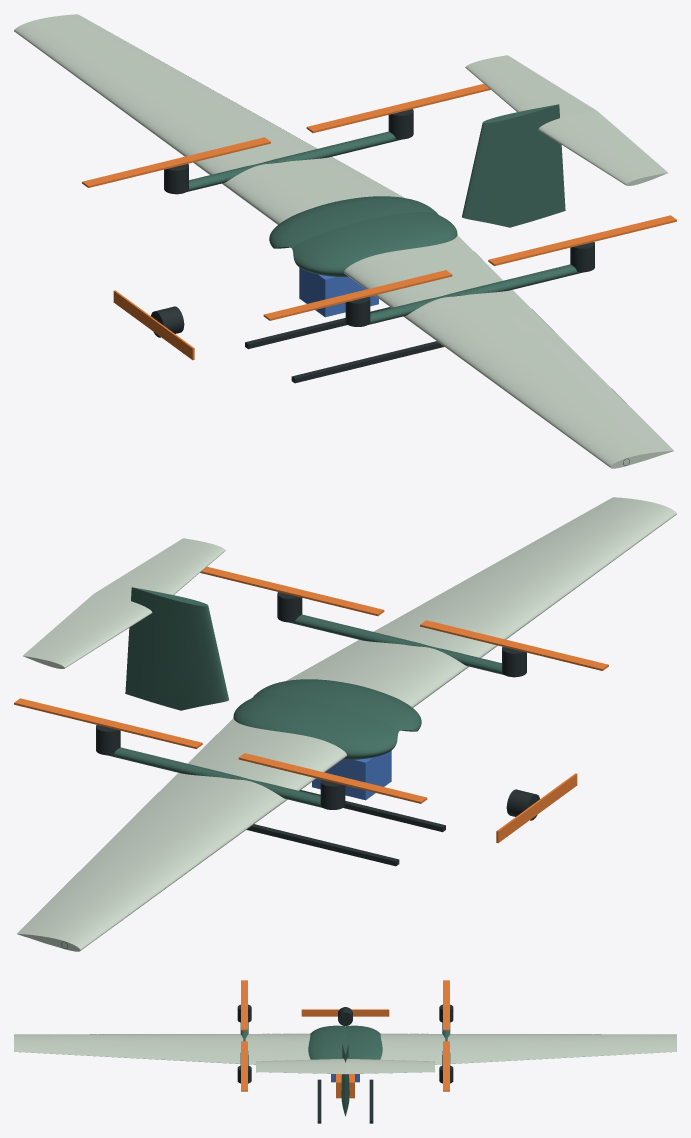
File: control-03-internal.glb
The picture shows the model from 3 angles, top to bottom: view 1: azimuth 30°, elevation 25°; view 2: azimuth 150°, elevation 25°; view 3: azimuth 270°, elevation 25°; orthographic projection. The views are drawn at different scales.
Parts seen in each view (by area): view 1: wing-1, wing1, fin, root_fairing-1, tail-1, root_fairing1, tail1, boom_fairing-1, boom_fairing1, payload, prop_-1_700.0, prop_-1_200.0 (+8 smaller); view 2: wing1, wing-1, fin, root_fairing1, tail1, root_fairing-1, tail-1, boom_fairing1, boom_fairing-1, payload, prop_1_700.0, prop_1_200.0 (+8 smaller); view 3: wing-1, wing1, tail-1, tail1, root_fairing-1, root_fairing1, cruise_prop, fin, prop_-1_200.0, prop_-1_700.0, prop_1_200.0, prop_1_700.0 (+2 smaller).
Boxes of the visible parts, x1,y1,x2,y2 form: wing-1: (344, 235, 673, 468); wing1: (14, 14, 404, 224); fin: (462, 104, 565, 227); root_fairing-1: (292, 212, 457, 276); tail-1: (538, 111, 668, 185); root_fairing1: (269, 196, 438, 248); tail1: (465, 55, 596, 117); boom_fairing-1: (368, 264, 583, 324); boom_fairing1: (187, 131, 402, 191); payload: (299, 267, 378, 317); prop_-1_700.0: (488, 215, 676, 265); prop_-1_200.0: (263, 270, 452, 320); wing1: (17, 718, 346, 951); wing-1: (286, 497, 676, 707); fin: (125, 587, 228, 710); root_fairing1: (233, 695, 398, 759); tail1: (22, 594, 152, 668); root_fairing-1: (252, 679, 421, 731); tail-1: (94, 538, 225, 600); boom_fairing1: (107, 747, 322, 807); boom_fairing-1: (288, 614, 503, 674); payload: (312, 750, 391, 800); prop_1_700.0: (14, 698, 202, 748); prop_1_200.0: (238, 753, 427, 803); wing-1: (14, 1033, 310, 1064); wing1: (380, 1033, 676, 1064); tail-1: (256, 1058, 345, 1074); tail1: (345, 1058, 434, 1074); root_fairing-1: (308, 1025, 345, 1059); root_fairing1: (345, 1025, 382, 1059); cruise_prop: (301, 1009, 389, 1016); fin: (341, 1034, 349, 1116); prop_-1_200.0: (241, 980, 247, 1030); prop_-1_700.0: (241, 1041, 247, 1091); prop_1_200.0: (443, 980, 449, 1030); prop_1_700.0: (443, 1041, 449, 1091).
Size of the model in its own units: 989 by 405 by 2300.
